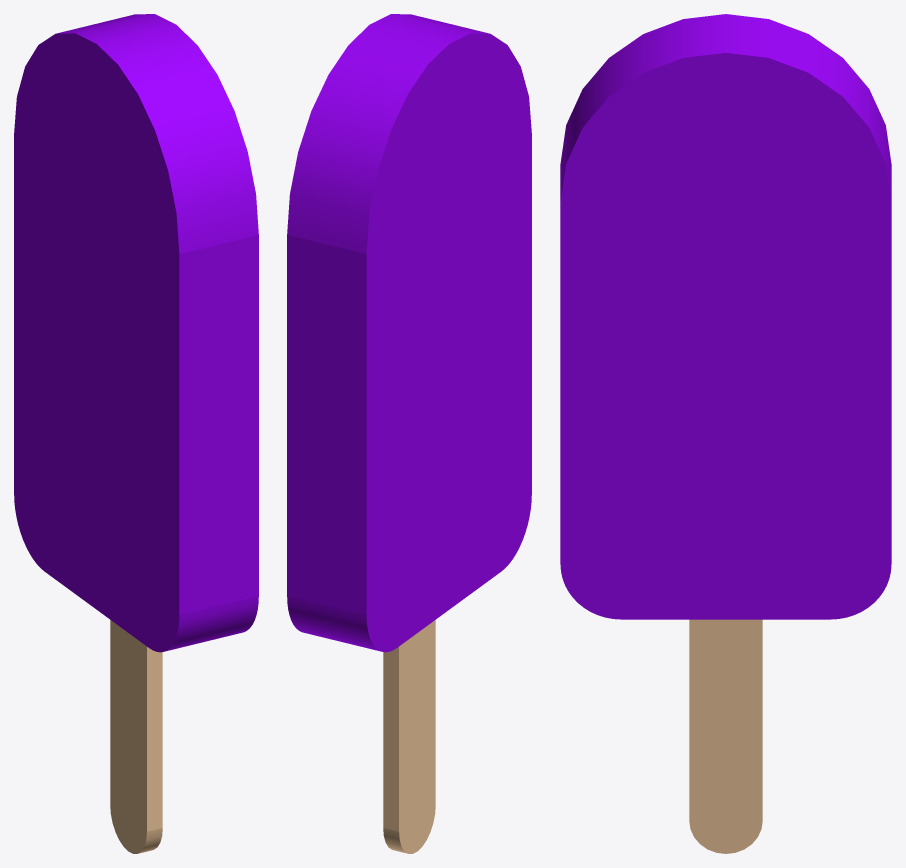
Rendered from popsicle_purple.fbx.
3 views of the same model, side by side, from view 1: azimuth 30°, elevation 25°; view 2: azimuth 150°, elevation 25°; view 3: azimuth 270°, elevation 25° (orthographic).
Visible parts, largest first — view 1: popsicle; view 2: popsicle; view 3: popsicle.
Part boxes in pixels (x1,y1,x2,y2): popsicle: (14, 14, 258, 853); popsicle: (287, 14, 531, 853); popsicle: (560, 14, 891, 853).
Bounding box in the file's own units: 5 × 49 × 18.
